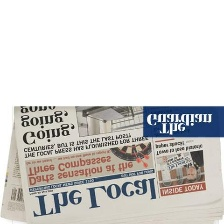news_paper: (0, 104, 224, 223)
